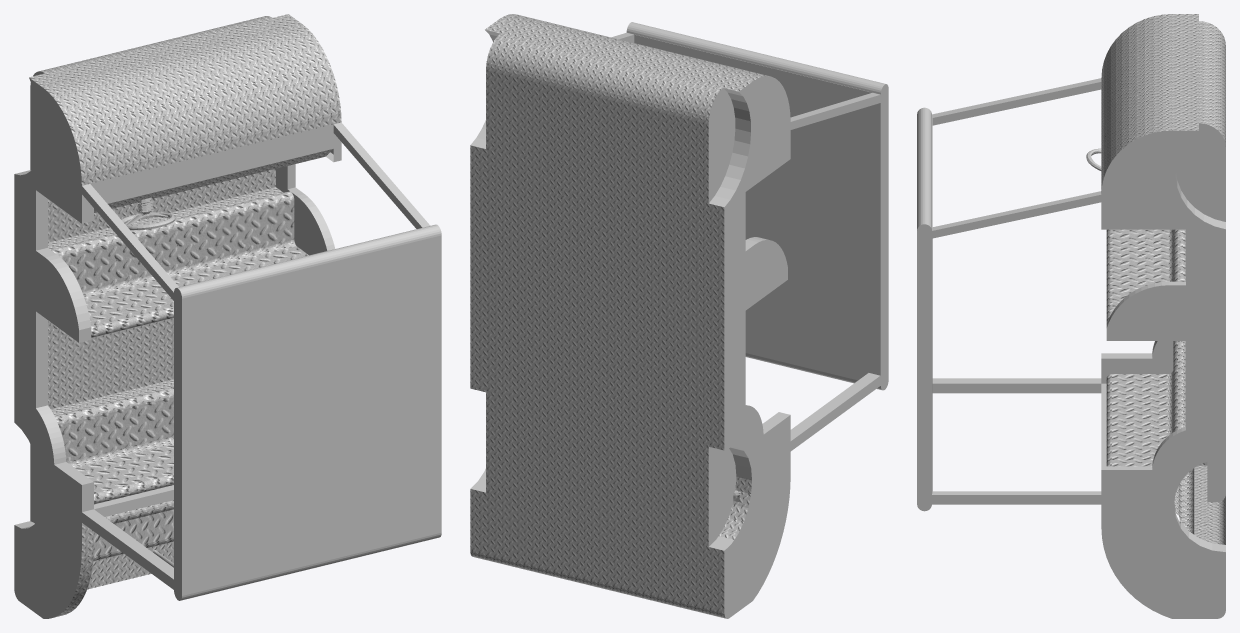
The model's file is no_wheels_test.dae.
3 renders of one model, left to right at view 1: azimuth 30°, elevation 25°; view 2: azimuth 150°, elevation 25°; view 3: azimuth 270°, elevation 25°, orthographic. The views are drawn at different scales.
Parts seen in each view (by area): view 1: node; view 2: node; view 3: node.
Part boxes in pixels (box(x1,y1,x2,y2)): node: box(14, 14, 441, 618); node: box(470, 14, 888, 618); node: box(917, 14, 1225, 618).
Bounding box in the file's own units: 51.18 × 100 × 57.29.
